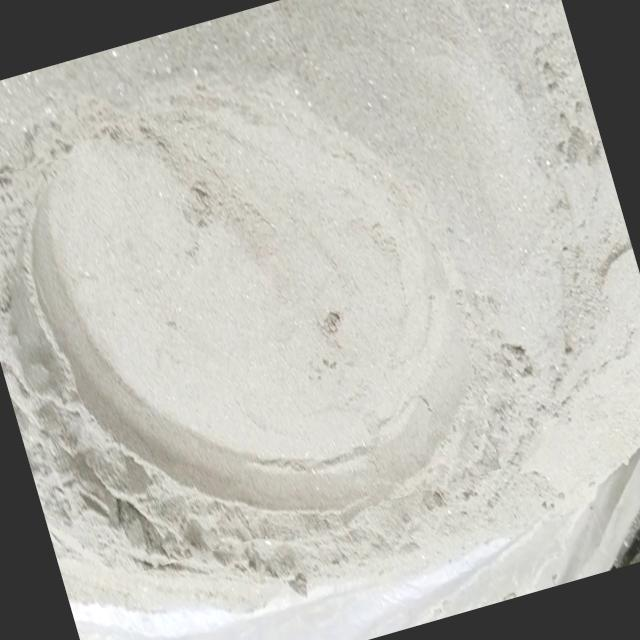C40: (3, 126, 467, 529)
